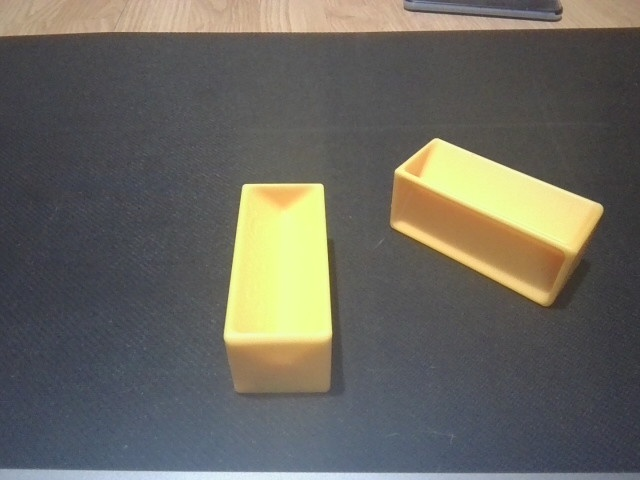YellowSample: (381, 133, 609, 313), (216, 178, 340, 398)
